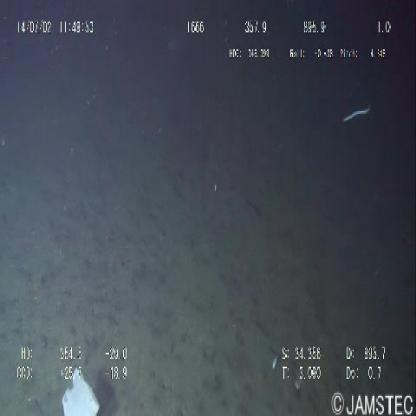Rác: (56, 363, 103, 416)
